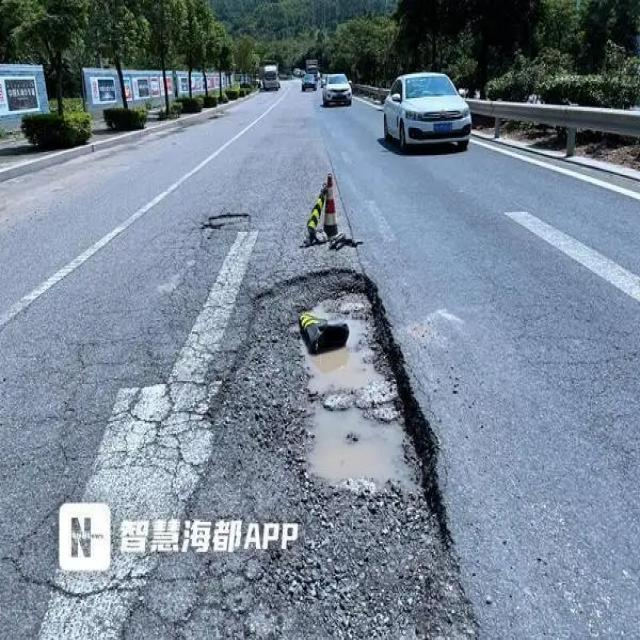Pothole: (261, 266, 460, 556), (199, 209, 253, 238)
